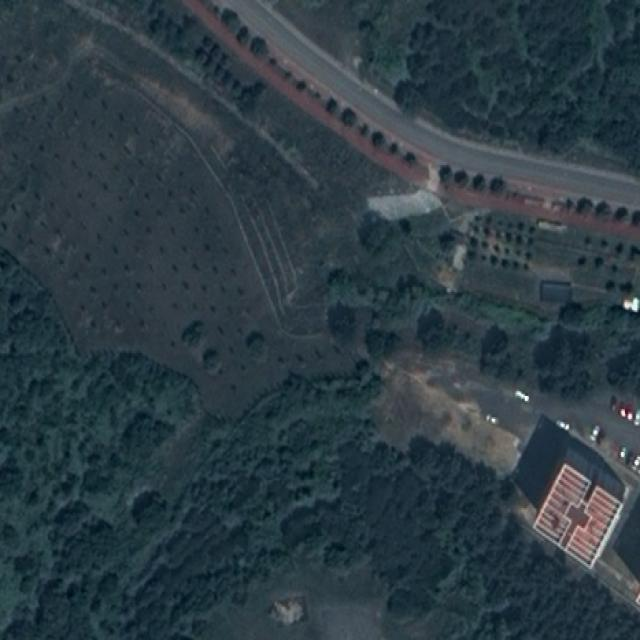Batiment: (534, 463, 621, 568)
